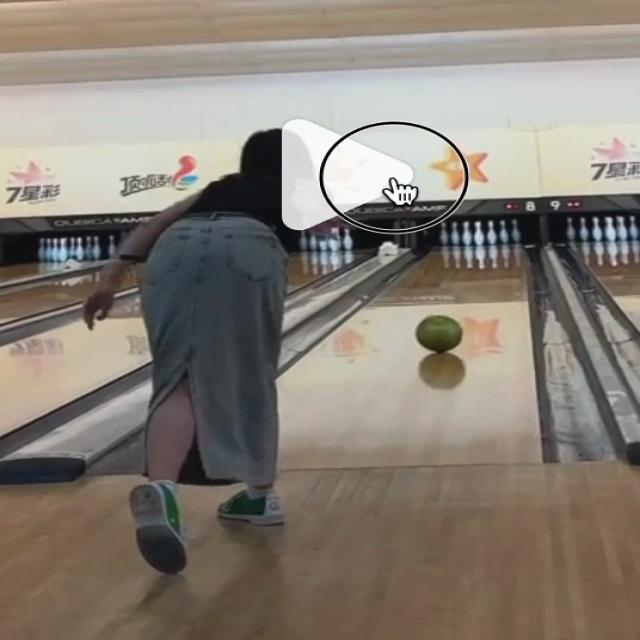alley: (279, 245, 540, 469)
balls: (416, 316, 462, 353)
bottle: (441, 219, 519, 246)
